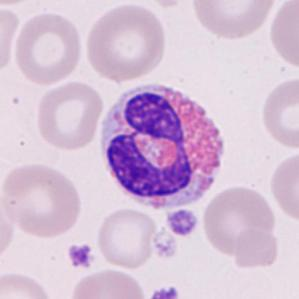Eosinophil: (95, 76, 232, 216)
Platelets: (164, 206, 200, 238), (150, 229, 180, 261), (65, 242, 96, 272), (146, 284, 180, 299)
RBC: (83, 1, 170, 84), (0, 160, 84, 240), (200, 183, 278, 258), (11, 9, 85, 87), (34, 79, 106, 152), (94, 206, 158, 271), (190, 0, 280, 41), (259, 75, 298, 150), (67, 266, 149, 299), (230, 226, 282, 271), (267, 149, 298, 224), (267, 0, 298, 72), (0, 269, 56, 299), (0, 3, 21, 76), (0, 197, 16, 264), (136, 0, 199, 8), (0, 0, 42, 7)
